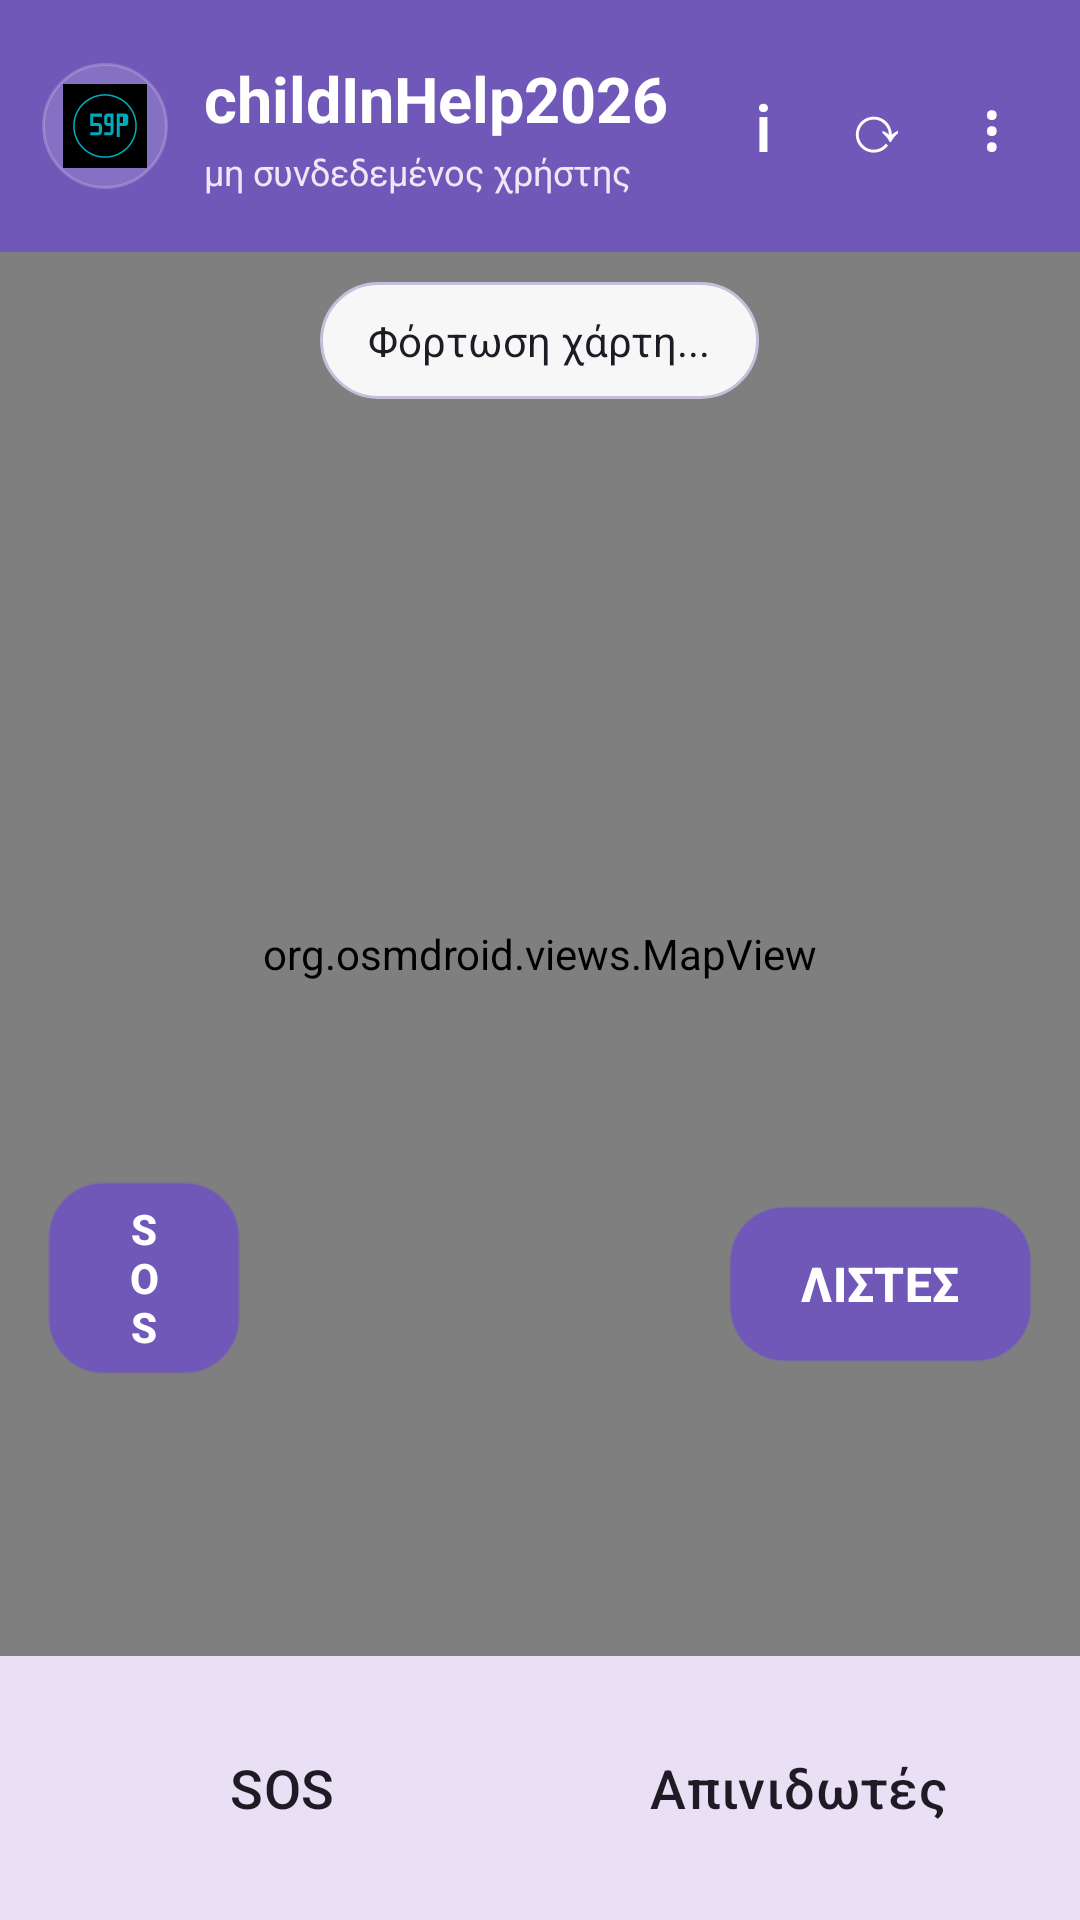

Icon click points for this 1080*1920 phone screenshot, format point (x, y):
favicon: point (105, 126)
